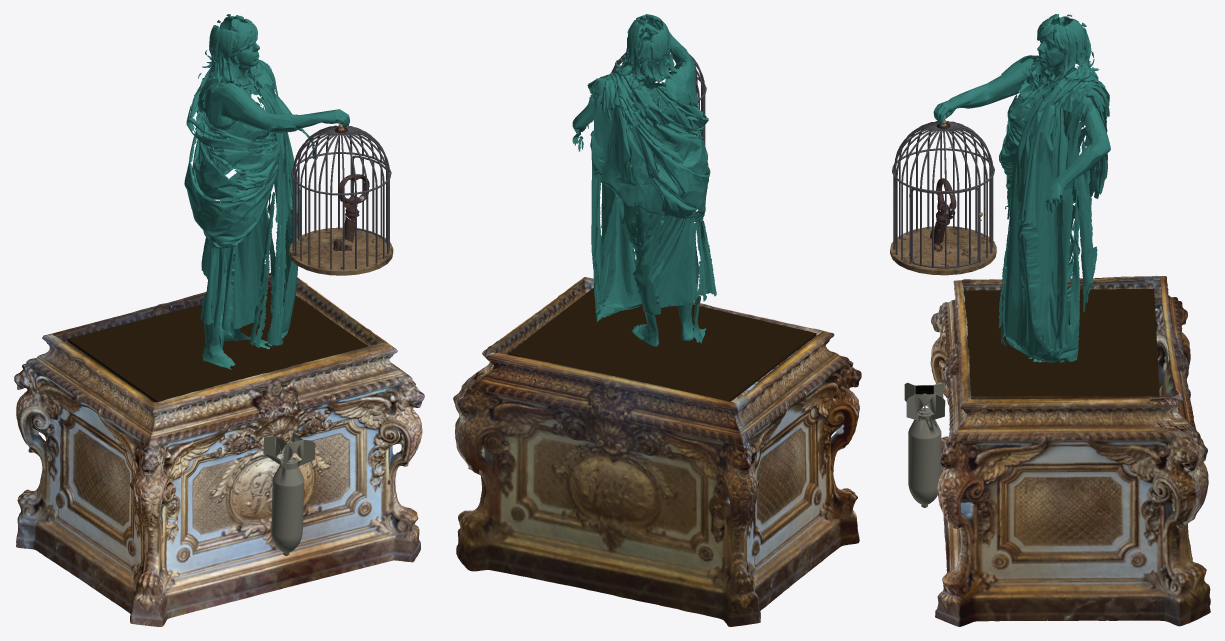
Rendered from statueArtistaForca.glb.
3 views of the same model, side by side, from view 1: azimuth 30°, elevation 25°; view 2: azimuth 150°, elevation 25°; view 3: azimuth 270°, elevation 25° (orthographic). The views are drawn at different scales.
Visible parts, largest first — view 1: Object_3, braco_02.001, Object_4, Cube, pCube4, Object_3.002, Object_3.001, pTorus41; view 2: Object_3, braco_02.001, Cube, Object_4; view 3: Object_3, braco_02.001, Cube, Object_4, pCube4, Object_3.002, pTorus41, Object_3.001.
Part boxes in pixels (x1,y1,x2,y2): Object_3: [14, 272, 424, 626]; braco_02.001: [184, 14, 349, 369]; Object_4: [18, 311, 423, 586]; Cube: [67, 286, 368, 410]; pCube4: [289, 123, 393, 275]; Object_3.002: [263, 429, 315, 555]; Object_3.001: [333, 174, 369, 251]; pTorus41: [352, 155, 389, 250]; Object_3: [453, 277, 861, 626]; braco_02.001: [572, 14, 716, 346]; Cube: [508, 287, 816, 401]; Object_4: [456, 277, 819, 575]; Object_3: [930, 275, 1210, 626]; braco_02.001: [933, 14, 1110, 362]; Cube: [963, 288, 1159, 396]; Object_4: [939, 278, 1210, 623]; pCube4: [890, 113, 996, 275]; Object_3.002: [904, 382, 945, 507]; pTorus41: [909, 187, 982, 268]; Object_3.001: [930, 178, 956, 251].
Bounding box in the file's own units: 1.82 × 3.04 × 1.63.
Materials: 6 (4 with a texture image).
